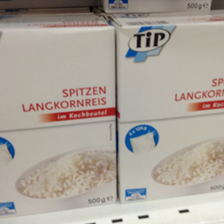rice: (1, 14, 116, 220), (110, 11, 224, 205)
